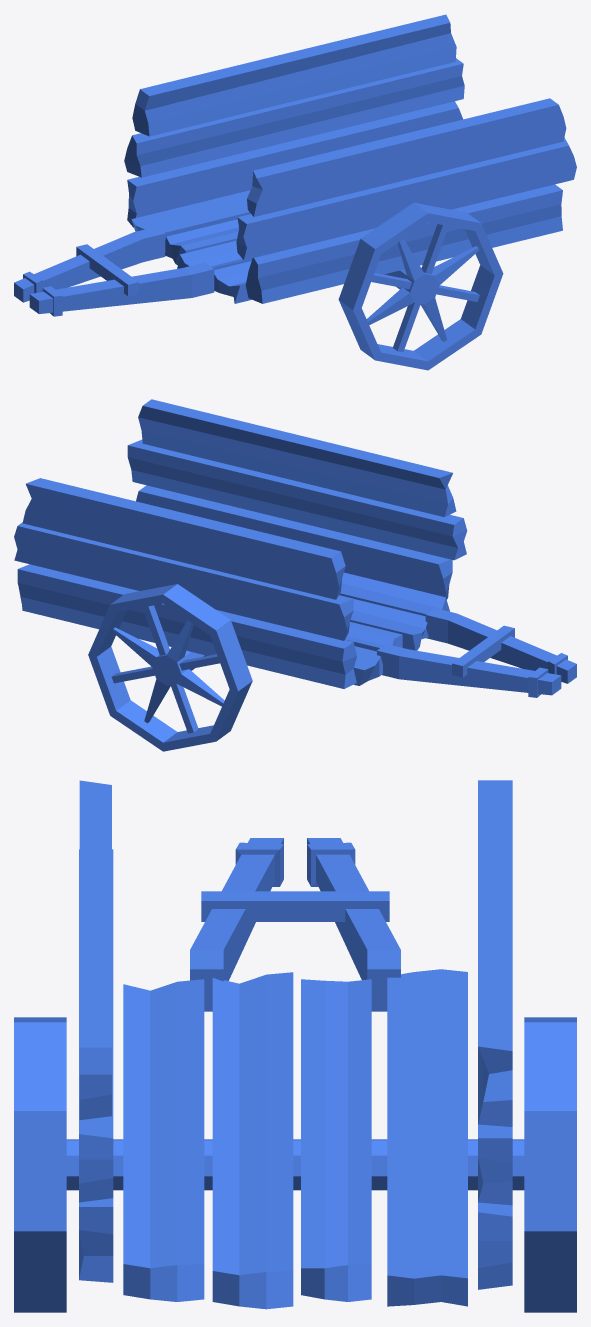
File: Wooden_Cart_Variant1.fbx
3 views of the same model, one above another, from view 1: azimuth 30°, elevation 25°; view 2: azimuth 150°, elevation 25°; view 3: azimuth 270°, elevation 25° (orthographic). The views are drawn at different scales.
Visible parts, largest first — view 1: Wooden_Cart_Variant1; view 2: Wooden_Cart_Variant1; view 3: Wooden_Cart_Variant1.
Part boxes in pixels (x1=…): Wooden_Cart_Variant1: x1=14, y1=14, x2=576, y2=370; Wooden_Cart_Variant1: x1=14, y1=399, x2=576, y2=751; Wooden_Cart_Variant1: x1=14, y1=780, x2=576, y2=1312.
Size of the model in its own units: 276 by 115 by 149.
